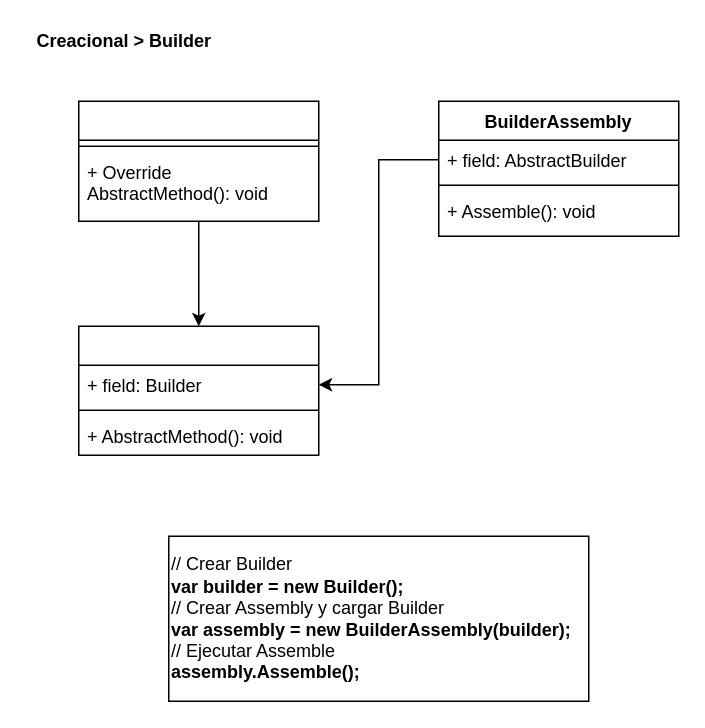
The diagram is 705 pixels wide and 728 high, and some of its shapes have lost their labels. The box of each missing label's shape, as (x1, y1, x2, y2) in pixels:
AbstractBuilder: (77, 325, 319, 455)
Builder : AbstractBuilder: (77, 100, 319, 221)
